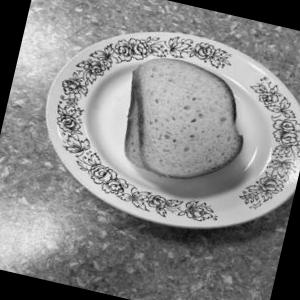bread: (102, 39, 275, 215)
